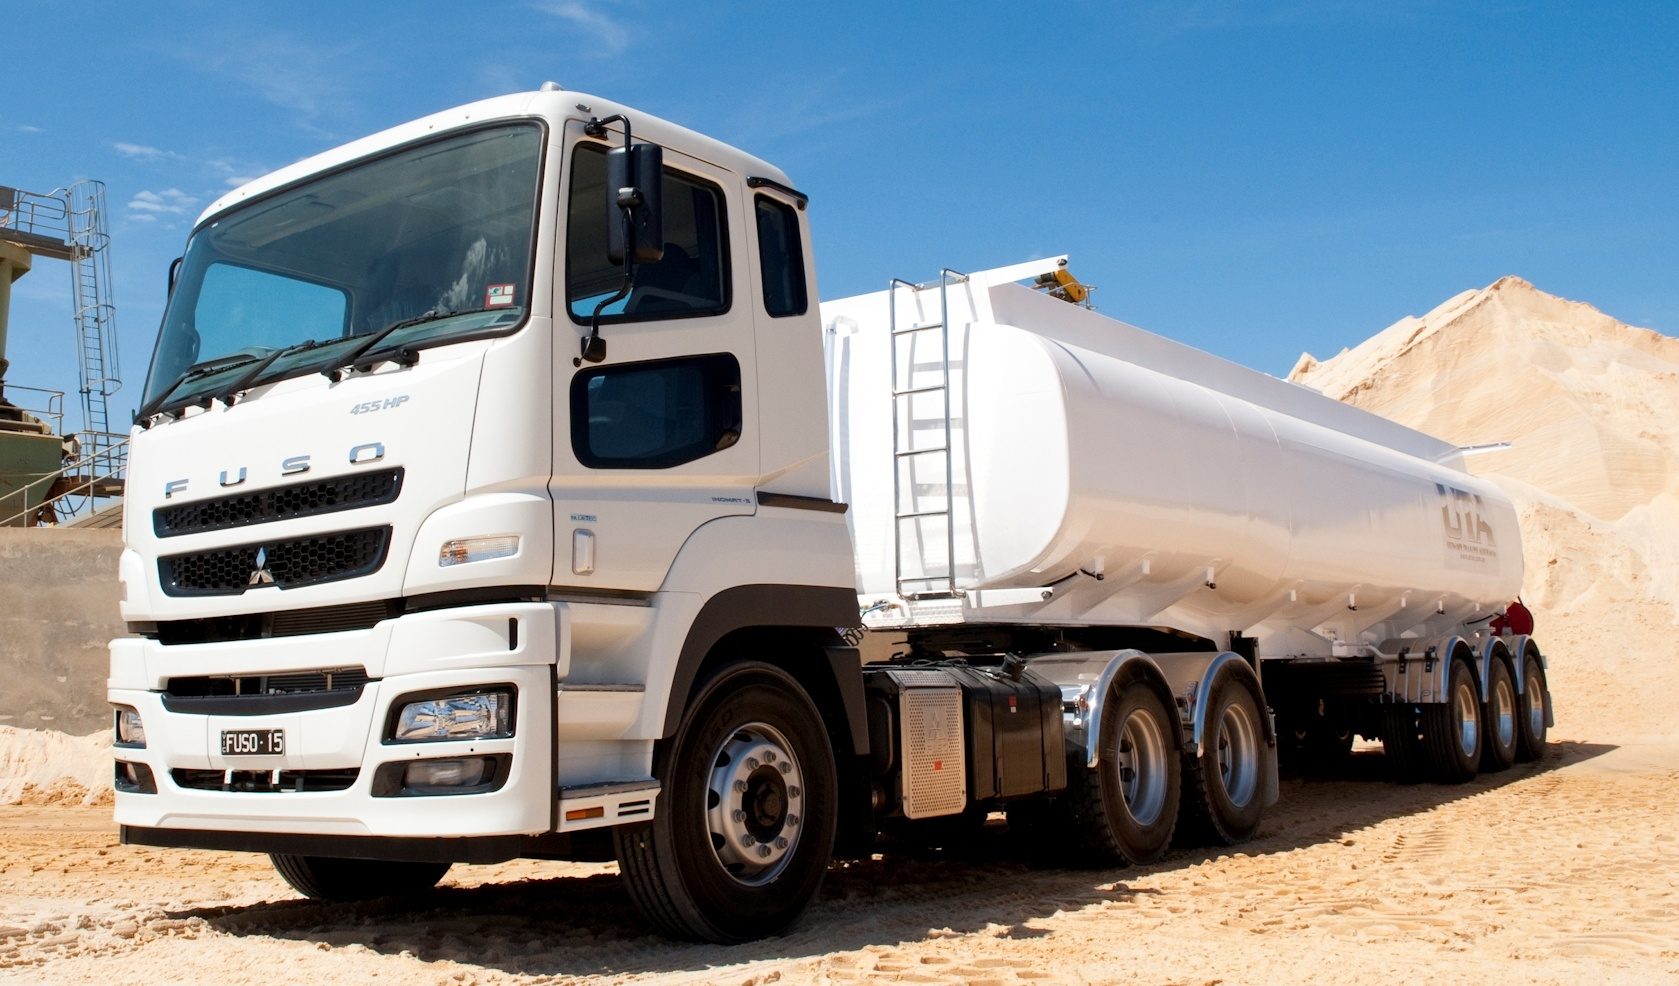heavy truck: (92, 72, 1576, 885)
